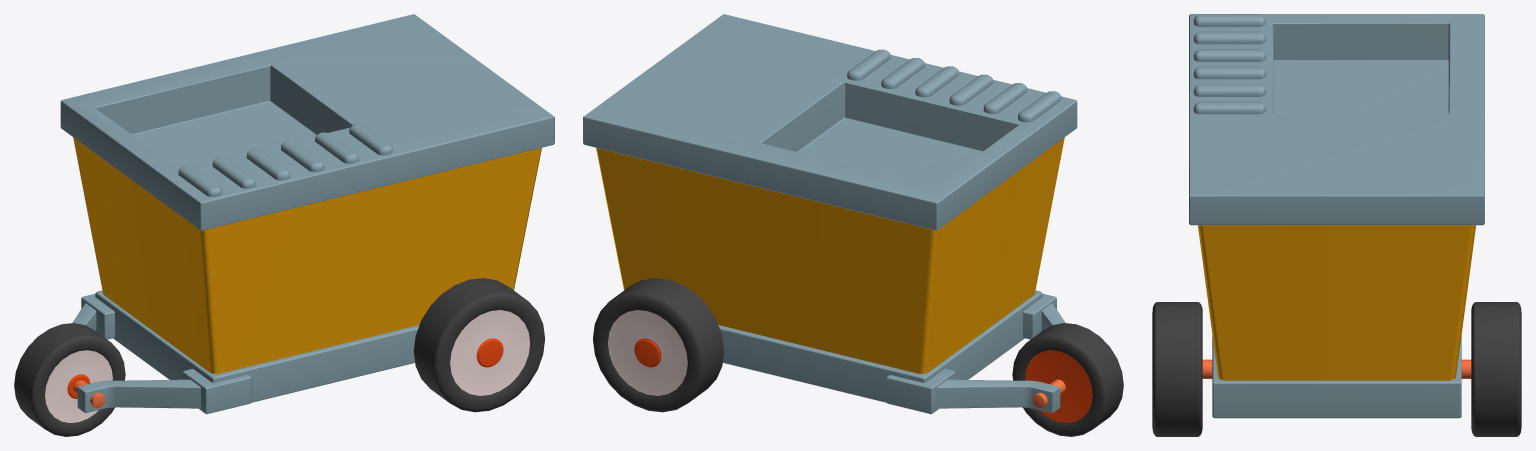
File: City_3_Hot_Dog_Car_1.glb
3 views of the same model, side by side, from view 1: azimuth 30°, elevation 25°; view 2: azimuth 150°, elevation 25°; view 3: azimuth 270°, elevation 25° (orthographic). The views are drawn at different scales.
Parts seen in each view (by area): view 1: City_3_Hot_Dog_Car_1; view 2: City_3_Hot_Dog_Car_1; view 3: City_3_Hot_Dog_Car_1.
Part boxes in pixels (x1,y1,x2,y2): City_3_Hot_Dog_Car_1: [14, 14, 554, 436]; City_3_Hot_Dog_Car_1: [583, 14, 1123, 436]; City_3_Hot_Dog_Car_1: [1152, 14, 1521, 436].
Size of the model in its own units: 2.03 by 1.14 by 1.34.
1 material, 1 textured.
